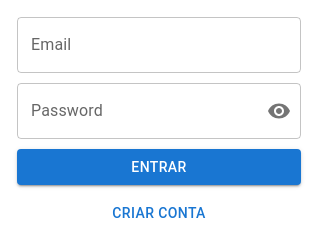
Test: Tests login page › Testing whether login page elements are rendering
This screenshot has width=320, height=235.
Check: the element with test id "email-login" is shown, box [17,16,301,72]
Check: the element with test id "password-login" is shown, box [17,82,301,138]
Click the button with test id "VisibilityIcon": point(279, 110) [259,90,299,130]
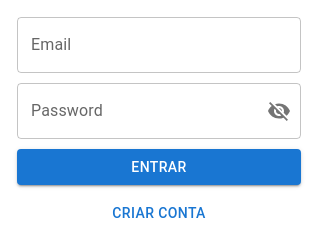
Check: the icon with test id "VisibilityOffIcon" is shown, box [267,98,291,122]
Check: the icon with test id "VisibilityIcon" is gone
